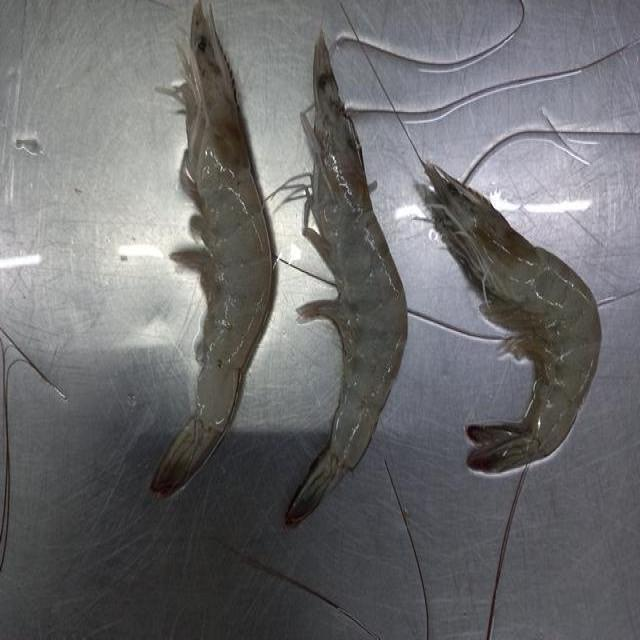shrimp: (286, 33, 408, 525), (151, 3, 272, 496), (424, 163, 601, 473)
